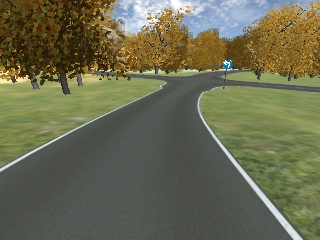left: (223, 59, 232, 71)
